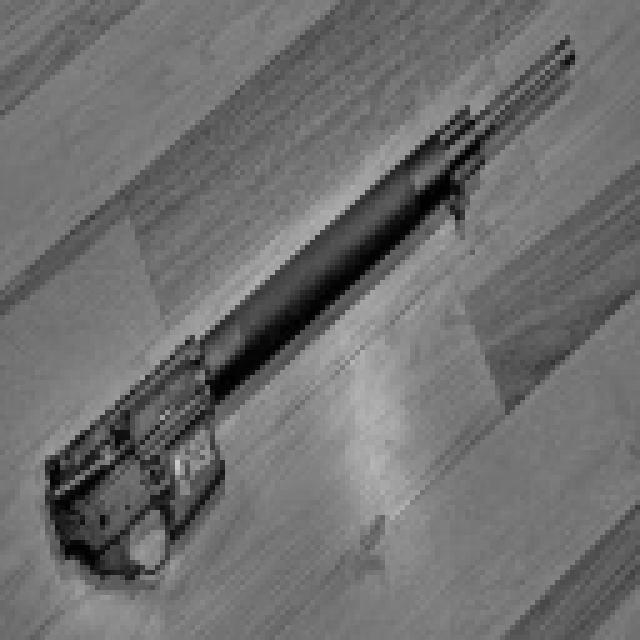Rifle: (0, 0, 601, 617)
